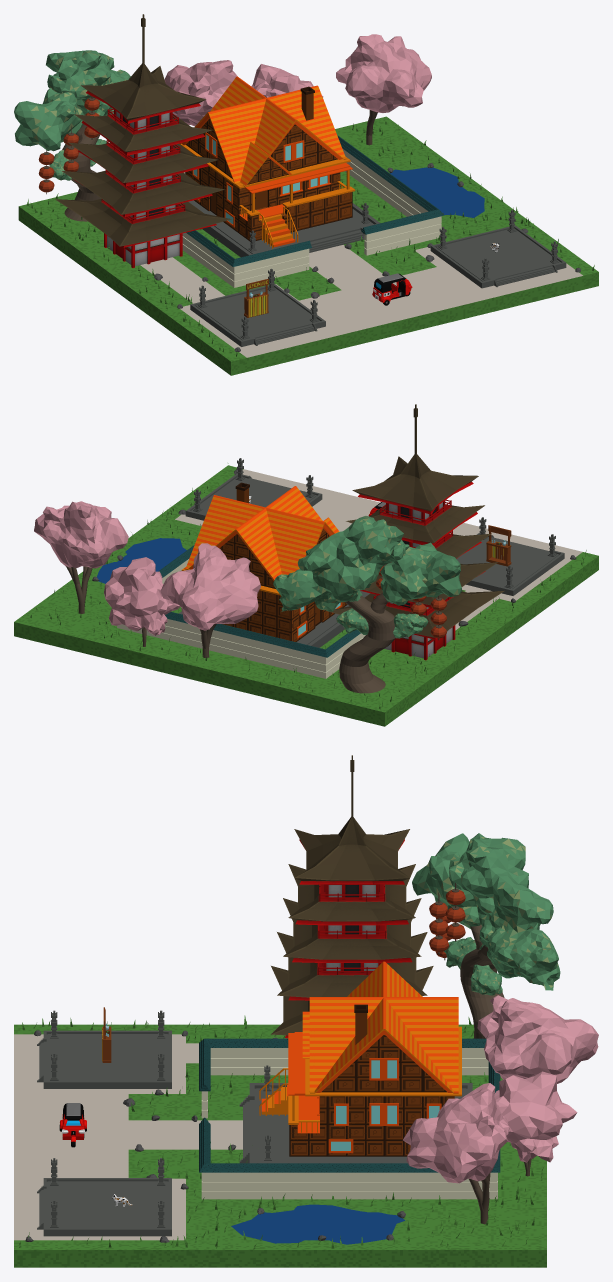
3 renders of one model, top to bottom at view 1: azimuth 30°, elevation 25°; view 2: azimuth 150°, elevation 25°; view 3: azimuth 270°, elevation 25°, orthographic. The views are drawn at different scales.
Parts seen in each view (by area): view 1: Cube.005, Cube, VEHICLES_TUC_TUC, OBJRANDOM_LEMONADE_STAND; view 2: Cube.005, Cube, OBJRANDOM_LEMONADE_STAND; view 3: Cube.005, Cube, VEHICLES_TUC_TUC.
Part boxes in pixels (x1=…): Cube.005: x1=14, y1=14, x2=598, y2=375; Cube: x1=179, y1=76, x2=355, y2=248; VEHICLES_TUC_TUC: x1=372, y1=273, x2=412, y2=305; OBJRANDOM_LEMONADE_STAND: x1=244, y1=278, x2=268, y2=317; Cube.005: x1=14, y1=404, x2=598, y2=726; Cube: x1=181, y1=482, x2=347, y2=641; OBJRANDOM_LEMONADE_STAND: x1=486, y1=525, x2=511, y2=566; Cube.005: x1=14, y1=755, x2=598, y2=1267; Cube: x1=259, y1=961, x2=461, y2=1156; VEHICLES_TUC_TUC: x1=59, y1=1103, x2=86, y2=1147.
Bounding box in the file's own units: 4528 × 2713 × 4389.
44 materials, 7 textured.
